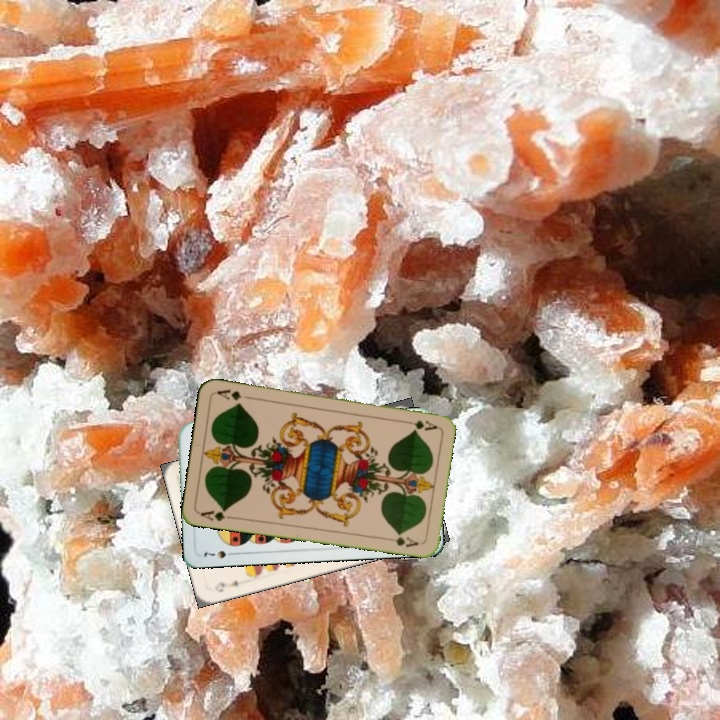E9: (211, 576, 241, 595)
GA: (197, 505, 237, 524), (400, 416, 440, 432)
S7: (199, 546, 239, 561)
